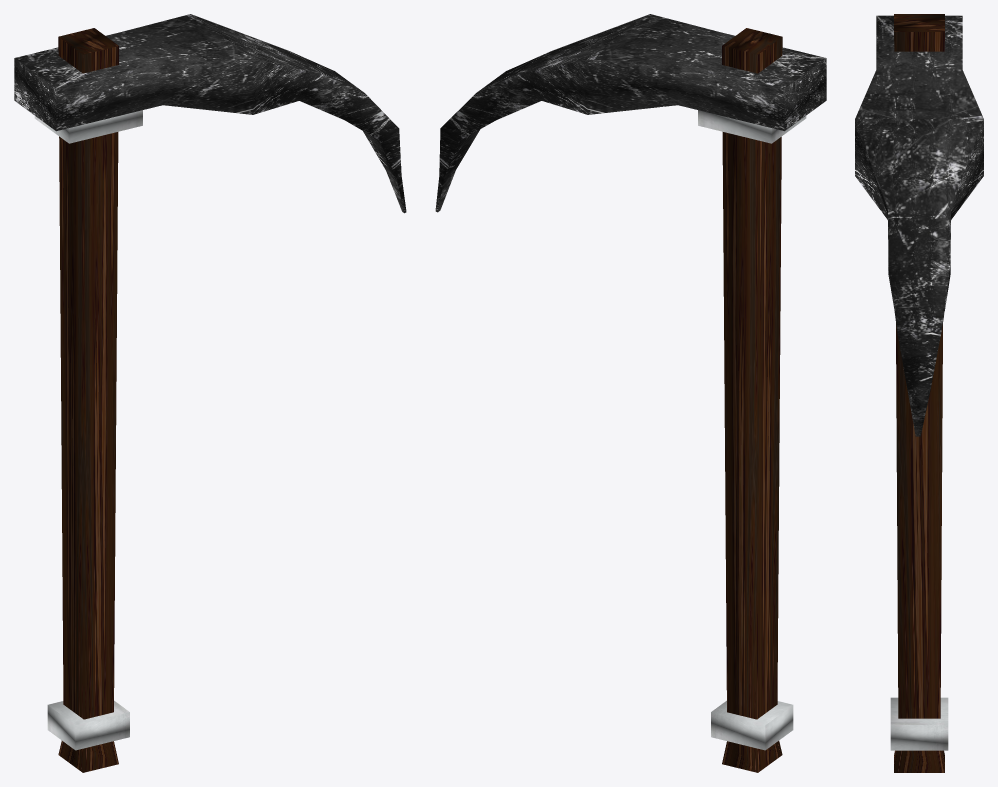
Rendered from hoe.glb.
The picture shows the model from 3 angles, left to right: view 1: azimuth 30°, elevation 25°; view 2: azimuth 150°, elevation 25°; view 3: azimuth 270°, elevation 25°; orthographic projection. The views are drawn at different scales.
Parts seen in each view (by area): view 1: Cube, Cube.002, Cube.001, Cube.003; view 2: Cube, Cube.002, Cube.001, Cube.003; view 3: Cube.002, Cube, Cube.001.
Boxes of the visible parts, bbox=[...] form: Cube: bbox=[58, 28, 118, 772]; Cube.002: bbox=[14, 14, 406, 213]; Cube.001: bbox=[47, 700, 129, 750]; Cube.003: bbox=[34, 110, 142, 143]; Cube: bbox=[722, 28, 782, 772]; Cube.002: bbox=[435, 14, 826, 212]; Cube.001: bbox=[711, 700, 793, 750]; Cube.003: bbox=[698, 110, 806, 143]; Cube.002: bbox=[855, 15, 983, 436]; Cube: bbox=[894, 14, 944, 772]; Cube.001: bbox=[890, 697, 948, 750].
Size of the model in its own units: 0.3461 by 0.6426 by 0.1014.
3 materials, 3 textured.
